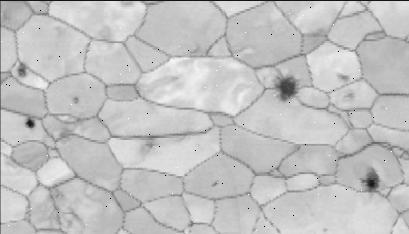good_void: (273, 74, 298, 103), (58, 208, 84, 230), (46, 181, 66, 205), (362, 170, 381, 194), (56, 125, 76, 145), (138, 137, 158, 153), (12, 63, 29, 79), (340, 87, 357, 102), (336, 67, 350, 84), (26, 113, 40, 128), (187, 43, 204, 54), (208, 176, 221, 188), (68, 92, 81, 104), (0, 9, 11, 23), (186, 219, 197, 230), (319, 225, 331, 233)
